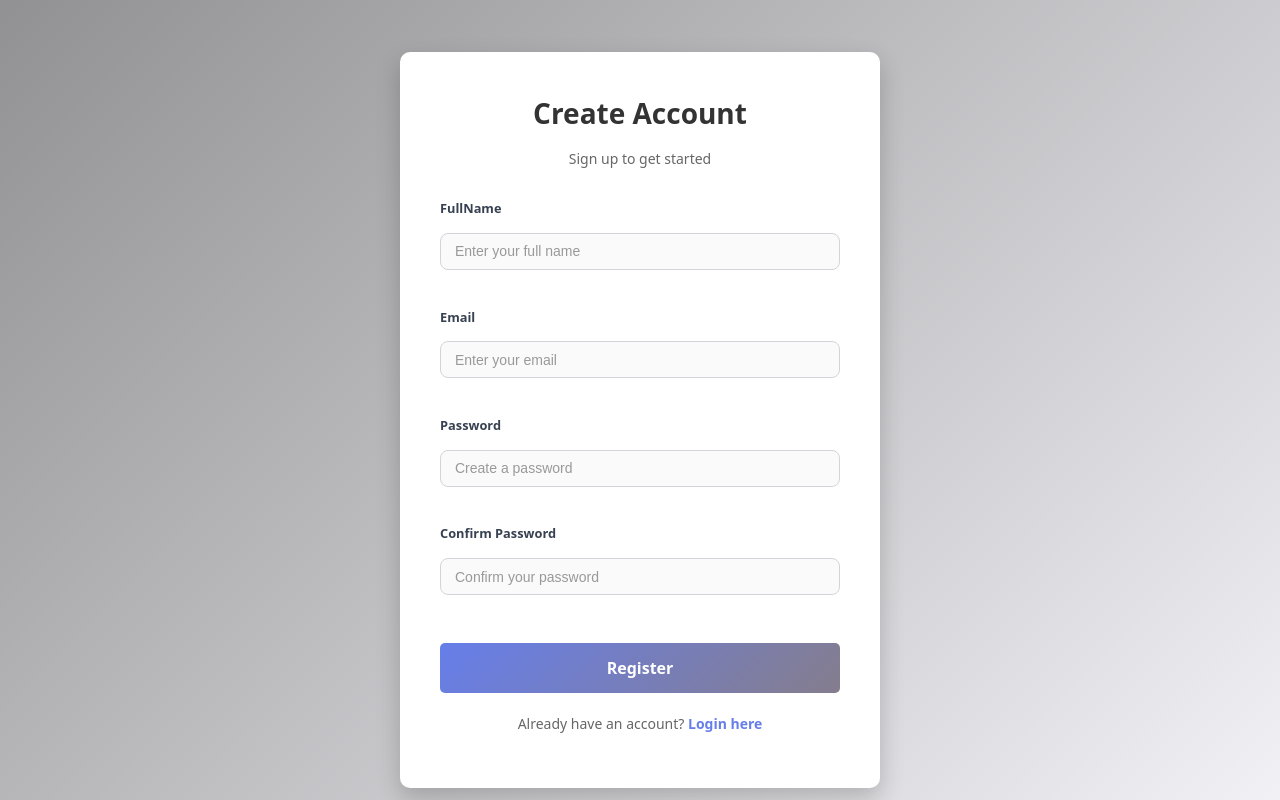
Test: Register — validation › shows error when passwords do not match
Type "John Doe" into the field labelled "FullName" at (640, 252), box [440,233,840,270]
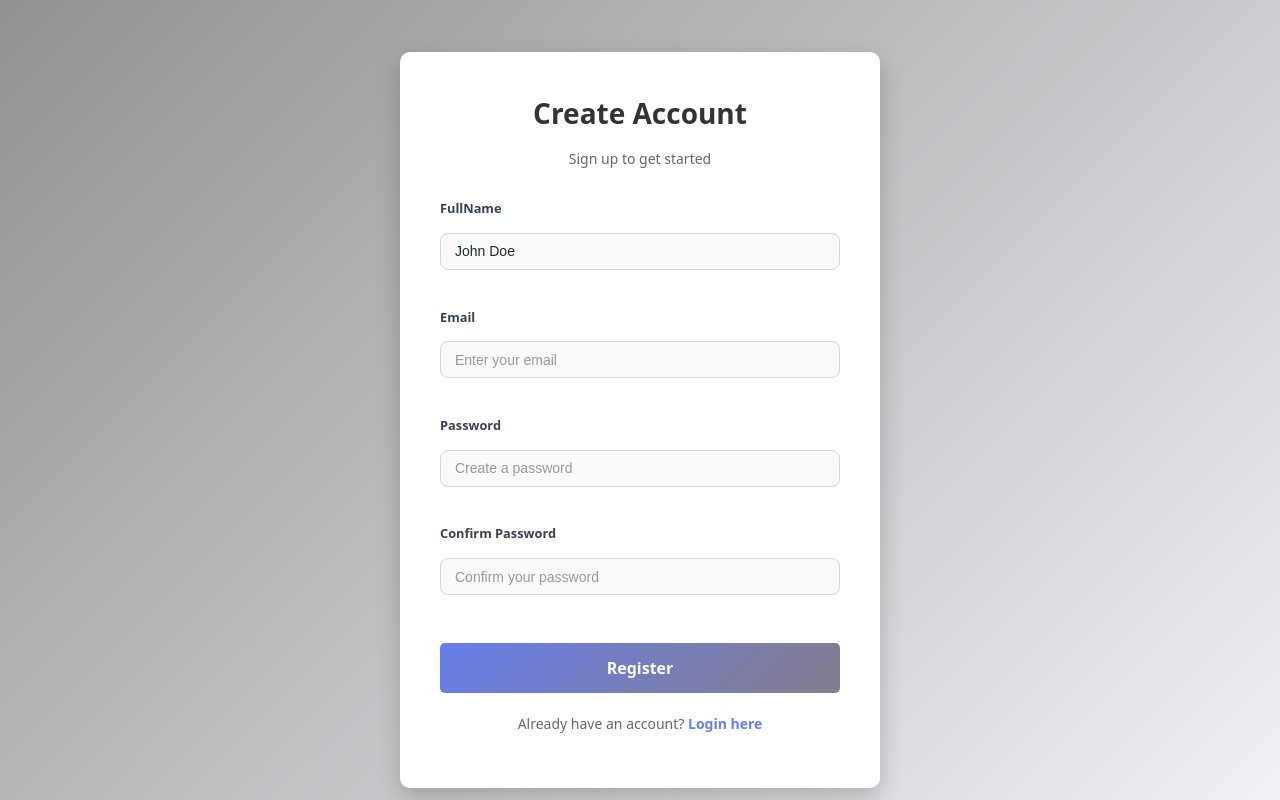
Type "john@test.com" into the field labelled "Email" at (640, 360), box [440,341,840,378]
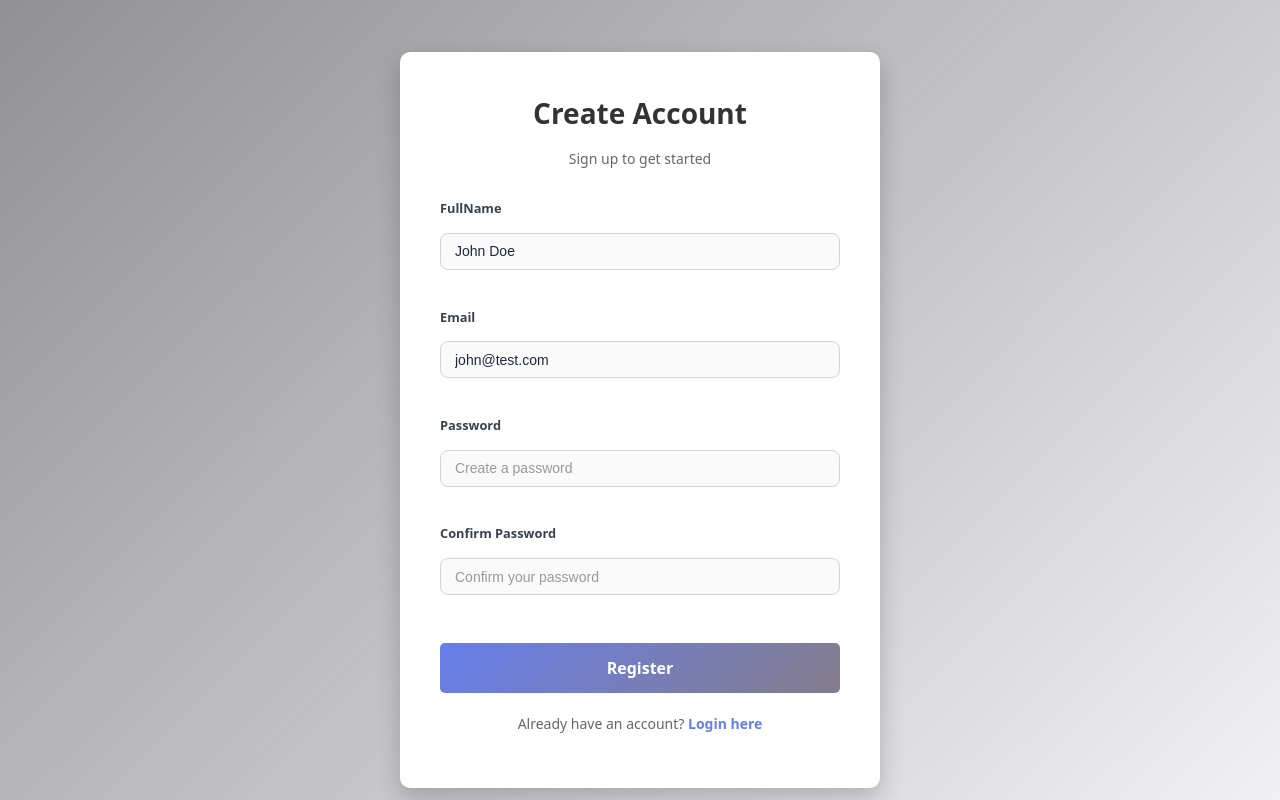
Type "password123" into the password field labelled "Password" at (640, 468), box [440,450,840,487]
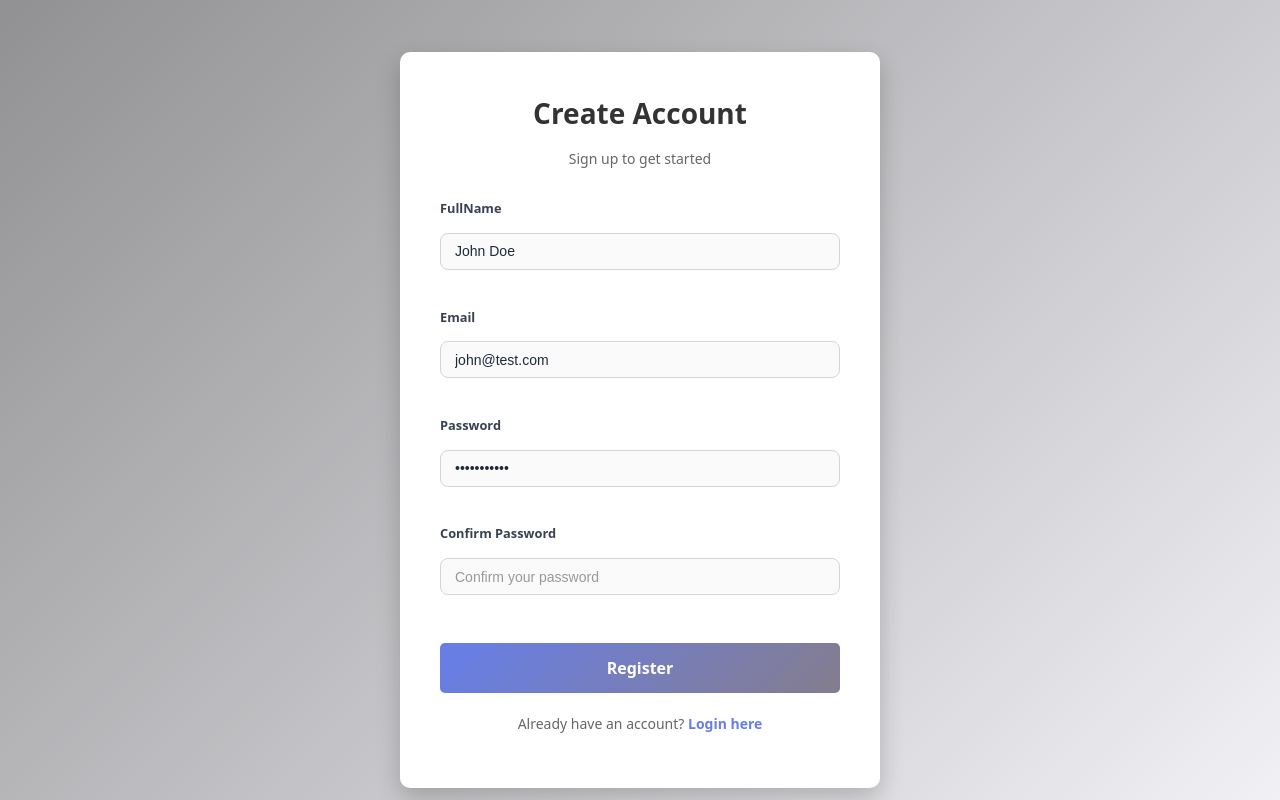
Type "different123" into the password field labelled "Confirm Password" at (640, 576), box [440,558,840,595]
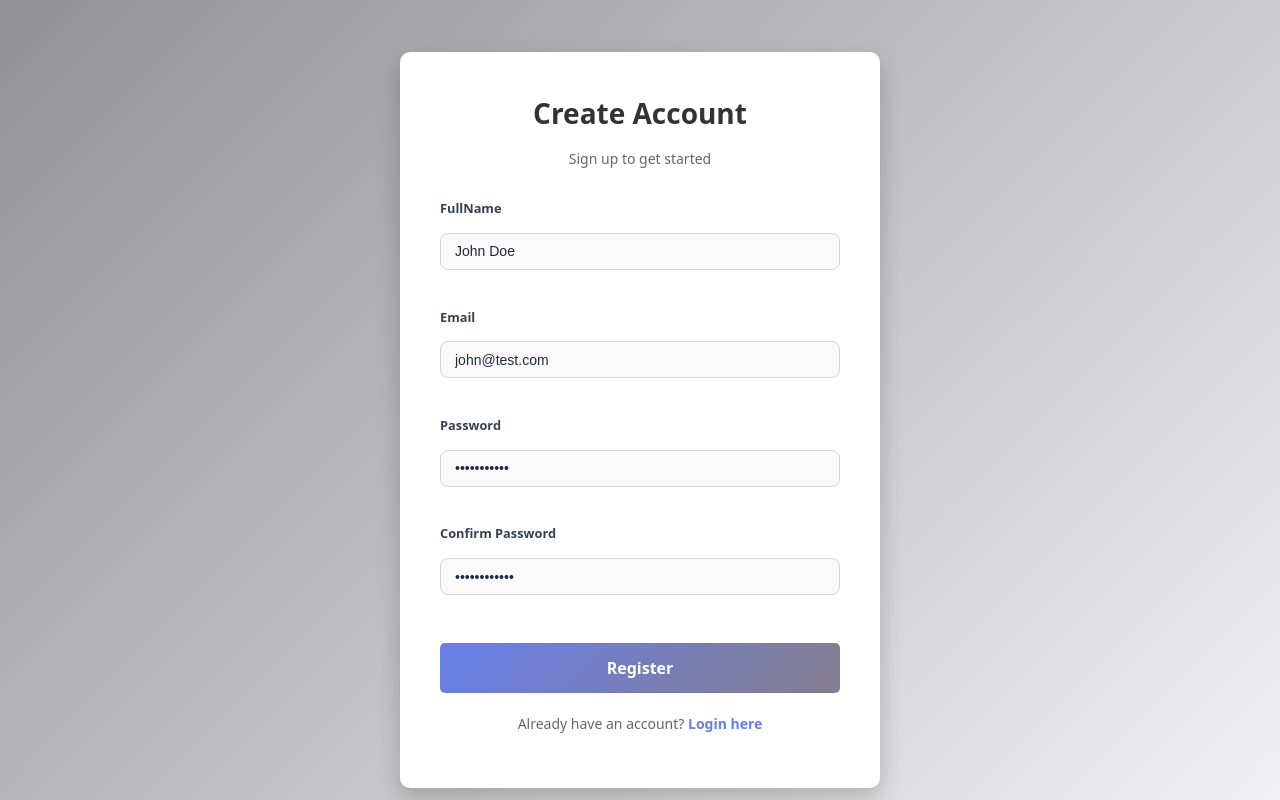
Click the button "Register" at (640, 668), box [440,643,840,693]
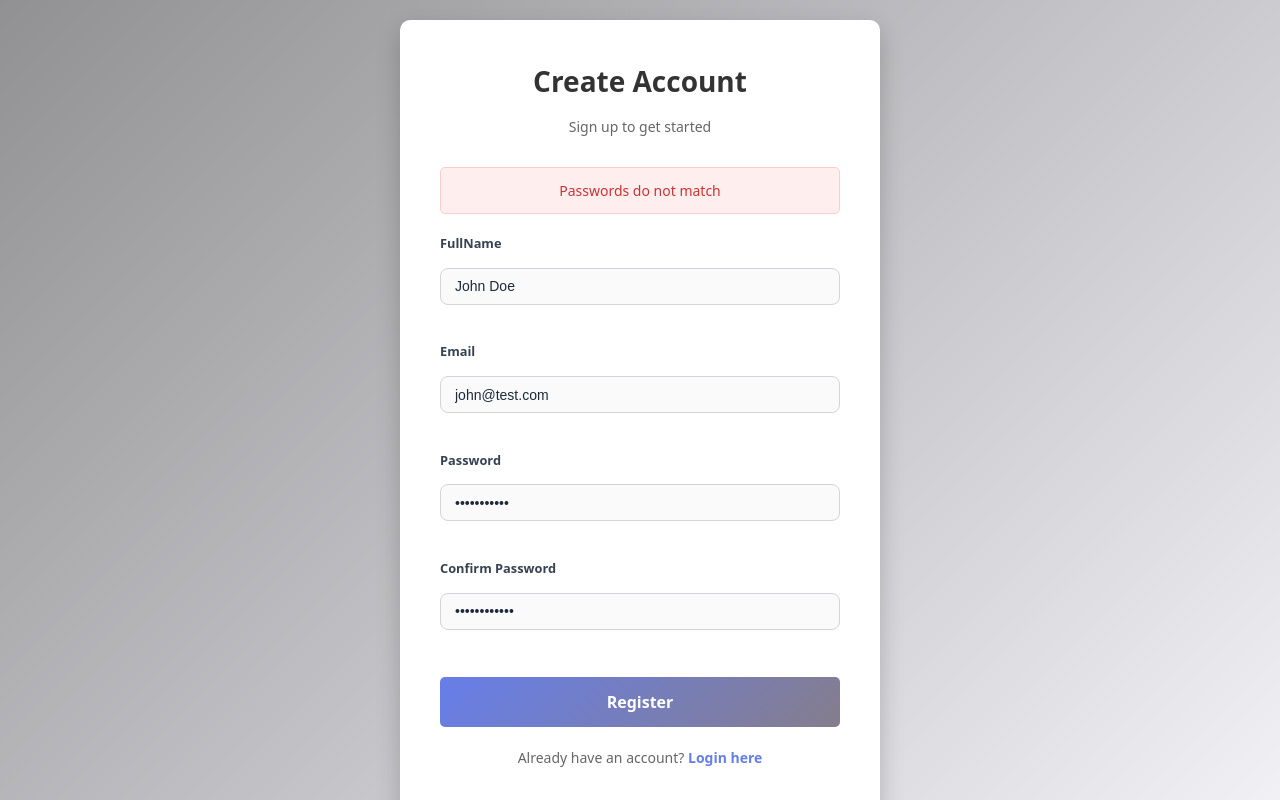
Now the text "Passwords do not match" is shown, box [440,167,840,214]
